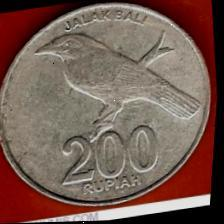coin_200_e2003: (0, 0, 211, 207)
